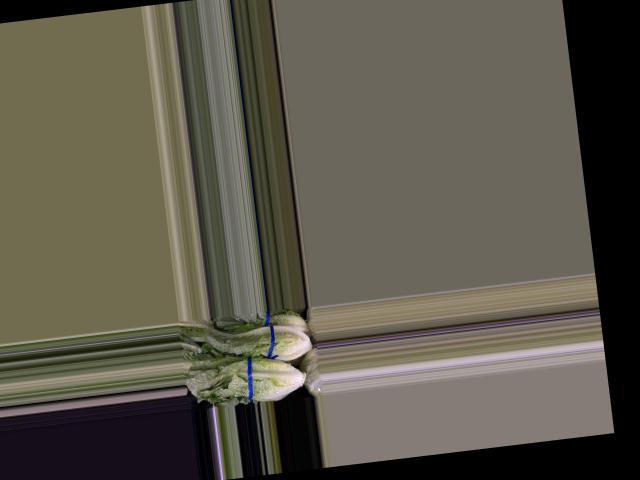lettuce: (202, 312, 314, 370)
